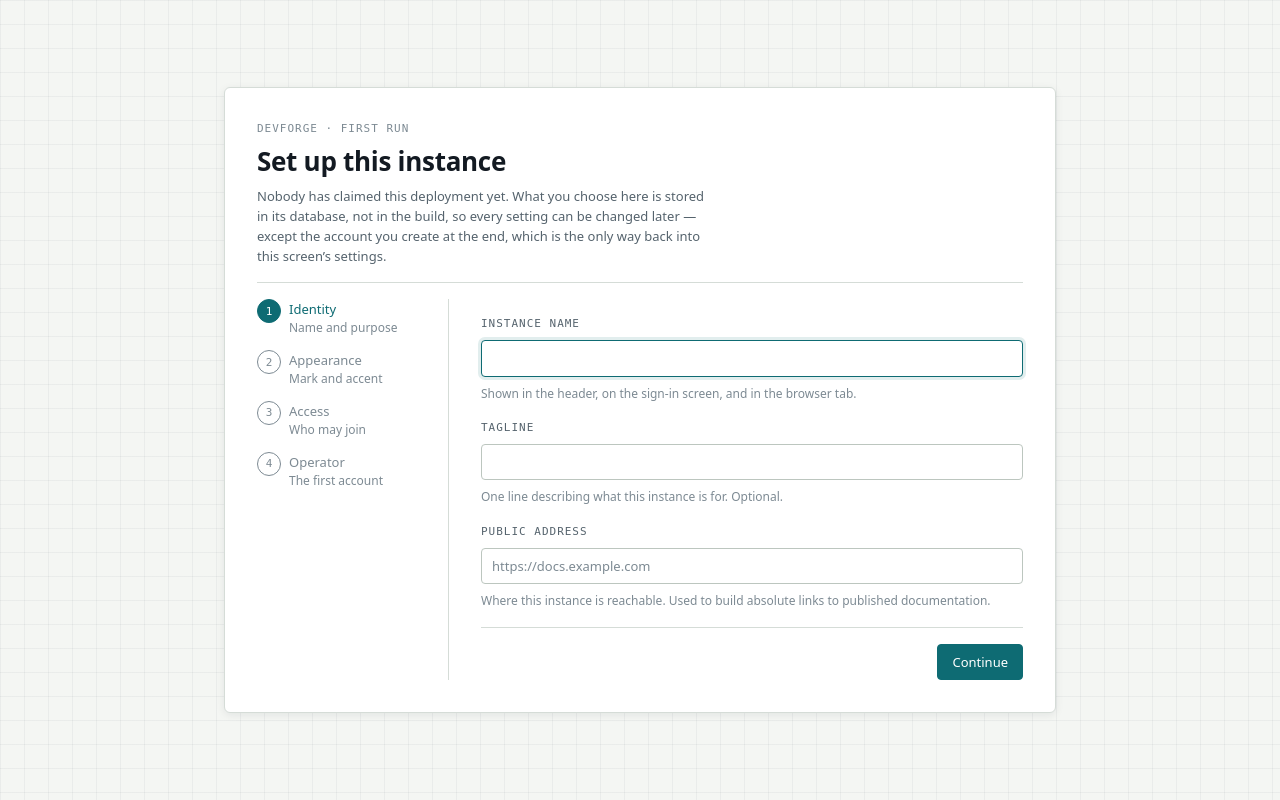
Test: SetupPage › will not leave the first step without a name for the instance
This screenshot has width=1280, height=800.
Click the button "Continue": (980, 662) 937,644 -> 1023,680
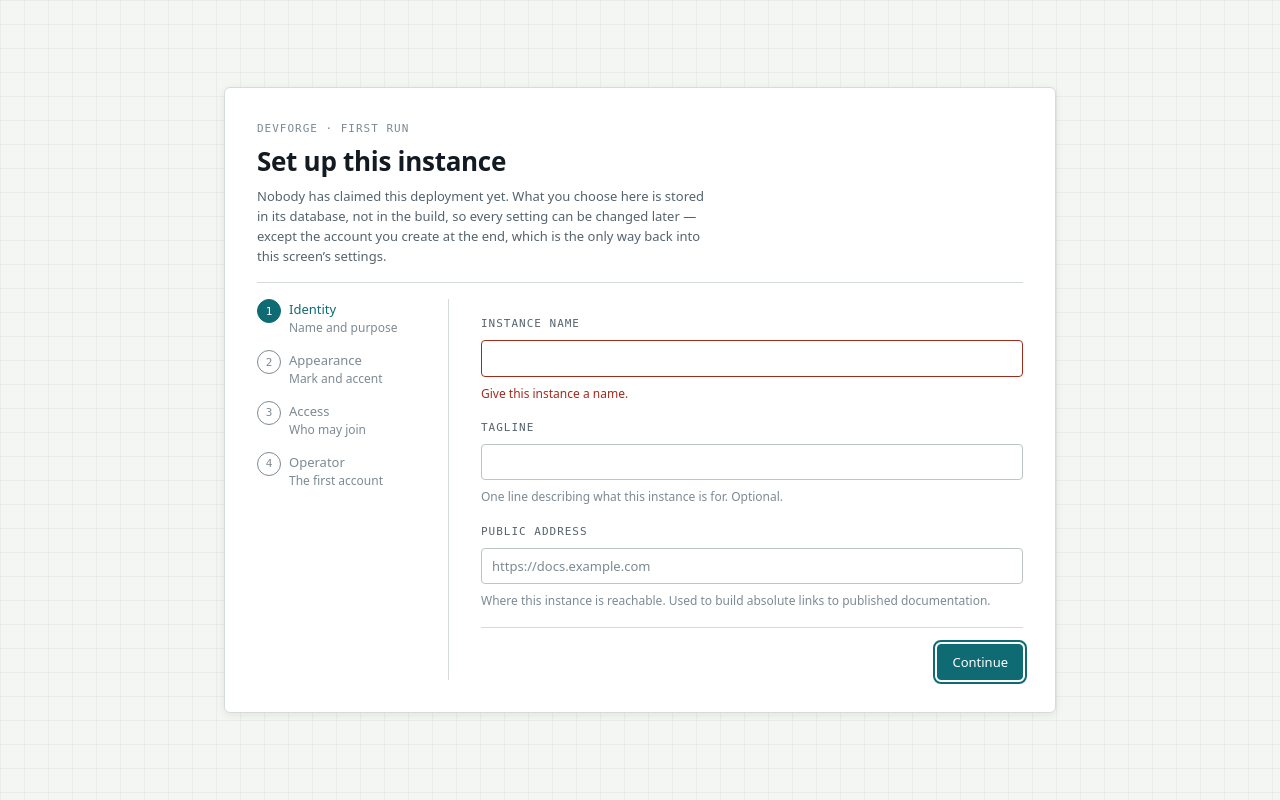
Result: the text "Give this instance a name." is shown at 481,384 -> 628,402
